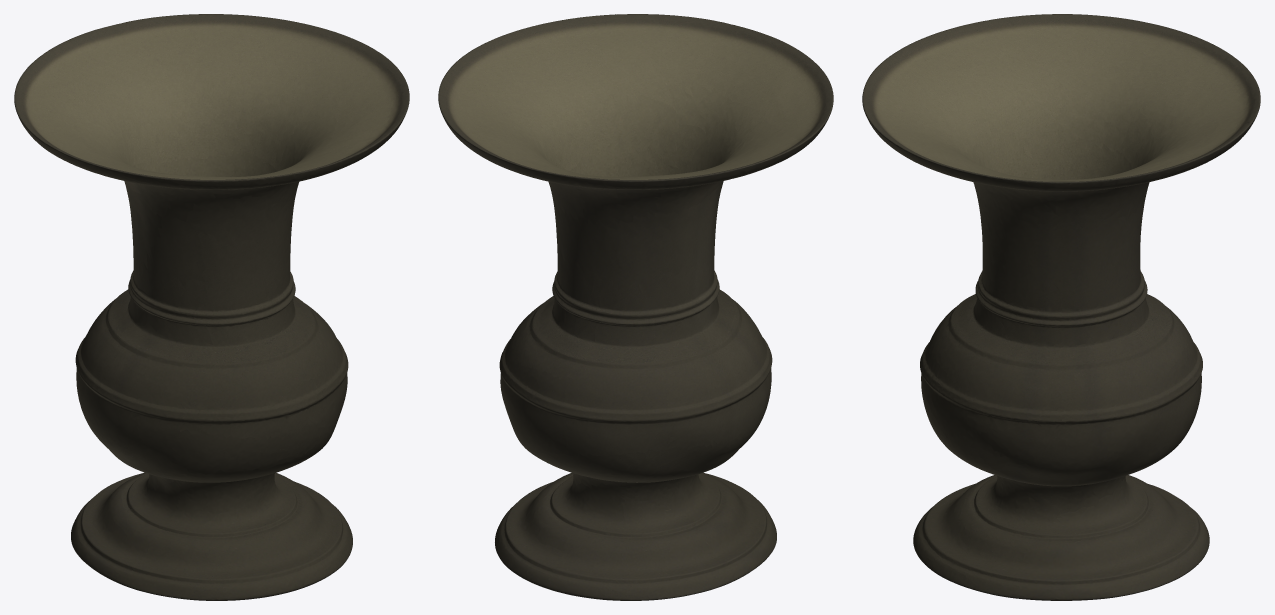
File: ketur.glb
The picture shows the model from 3 angles, left to right: view 1: azimuth 30°, elevation 25°; view 2: azimuth 150°, elevation 25°; view 3: azimuth 270°, elevation 25°; orthographic projection.
Visible parts, largest first — view 1: mesh_node; view 2: mesh_node; view 3: mesh_node.
Boxes of the visible parts, x1,y1,x2,y2 form: mesh_node: [14, 14, 409, 600]; mesh_node: [438, 14, 833, 600]; mesh_node: [862, 14, 1260, 600].
Size of the model in its own units: 1.54 by 1.9 by 1.54.
Materials: 1 (1 with a texture image).
